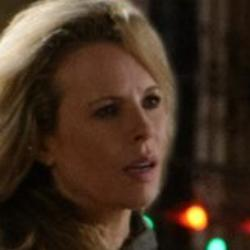face: (3, 4, 183, 230)
